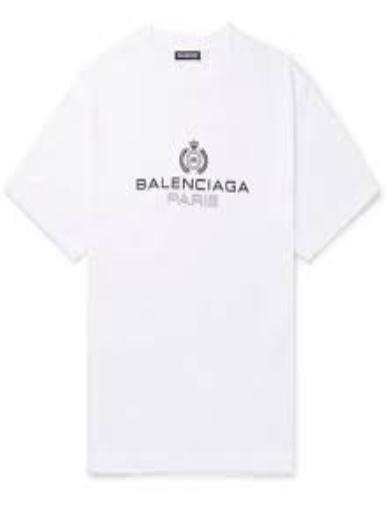BALENCIAGA: (137, 174, 253, 196)
